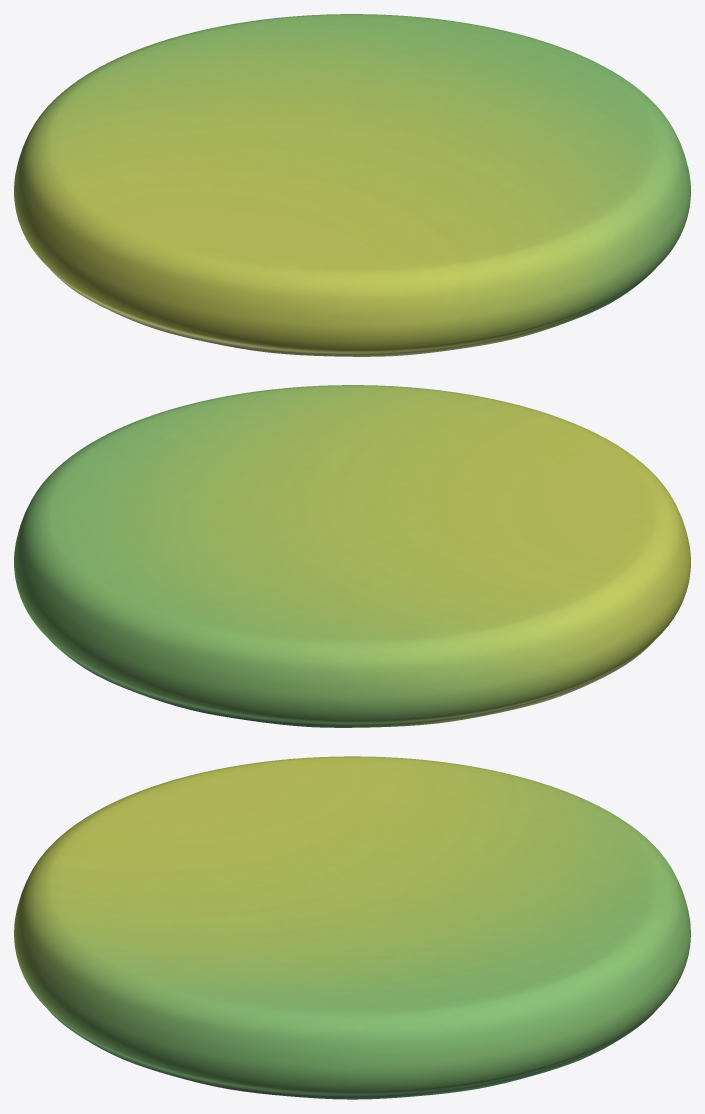
The model's file is JamJarCap.fbx.
The picture shows the model from 3 angles, top to bottom: view 1: azimuth 30°, elevation 25°; view 2: azimuth 150°, elevation 25°; view 3: azimuth 270°, elevation 25°; orthographic projection.
Visible parts, largest first — view 1: Cylinder.001; view 2: Cylinder.001; view 3: Cylinder.001.
Part boxes in pixels (x1=…): Cylinder.001: x1=14, y1=14, x2=690, y2=356; Cylinder.001: x1=14, y1=385, x2=690, y2=727; Cylinder.001: x1=14, y1=756, x2=690, y2=1099.
Bounding box in the file's own units: 1.75 × 0.2208 × 1.75.
1 material, 1 textured.
